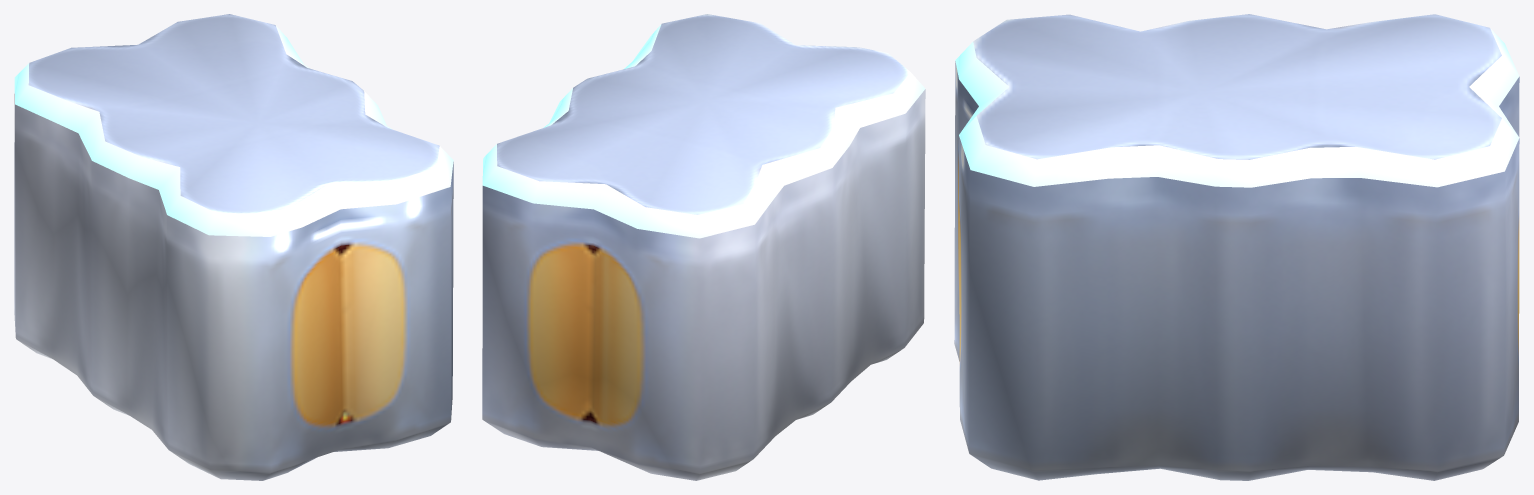
File: obj_can02.gltf
The picture shows the model from 3 angles, left to right: view 1: azimuth 30°, elevation 25°; view 2: azimuth 150°, elevation 25°; view 3: azimuth 270°, elevation 25°; orthographic projection. The views are drawn at different scales.
Visible parts, largest first — view 1: obj_can02; view 2: obj_can02; view 3: obj_can02.
Boxes of the visible parts, <box> form: obj_can02: <box>14,14,453,480</box>; obj_can02: <box>482,14,925,480</box>; obj_can02: <box>954,14,1519,480</box>.
Size of what is drawn, in the model's own units: 0.389 by 0.3671 by 0.5772.
Materials: 2 (1 with a texture image).
